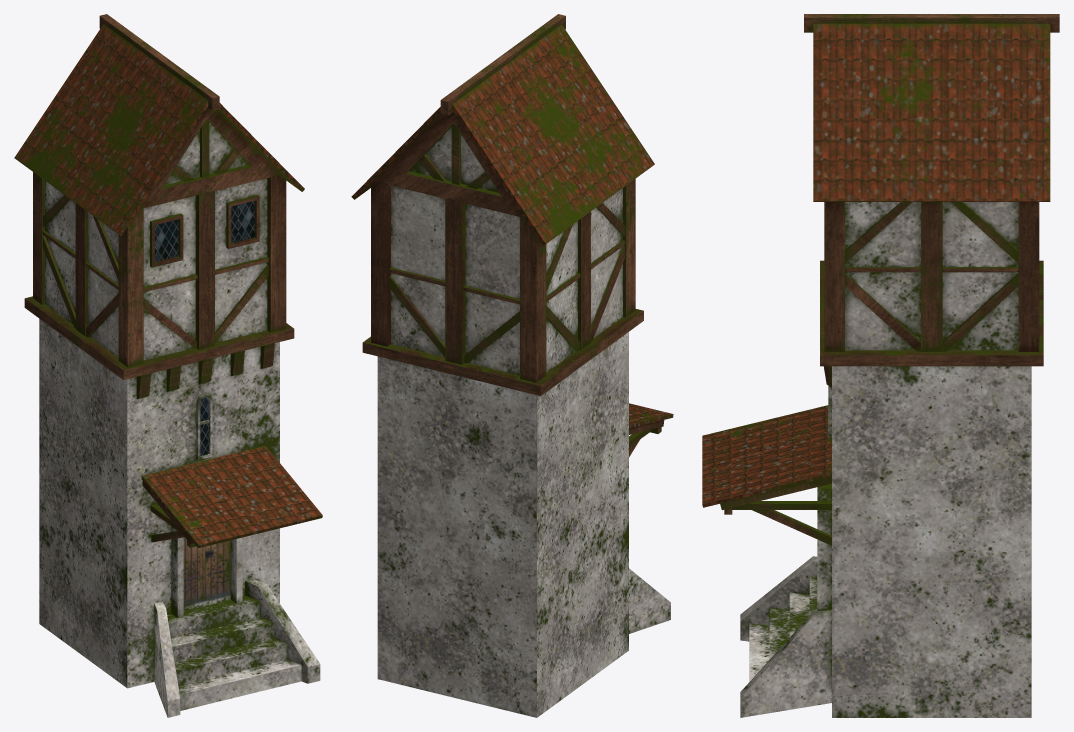
Rendered from House0.glb.
3 views of the same model, side by side, from view 1: azimuth 30°, elevation 25°; view 2: azimuth 150°, elevation 25°; view 3: azimuth 270°, elevation 25° (orthographic). The views are drawn at different scales.
Parts seen in each view (by area): view 1: House1_House1_M_0; view 2: House1_House1_M_0; view 3: House1_House1_M_0.
Part boxes in pixels (x1=…): House1_House1_M_0: x1=14, y1=14, x2=322, y2=717; House1_House1_M_0: x1=351, y1=14, x2=673, y2=717; House1_House1_M_0: x1=702, y1=14, x2=1059, y2=717.
Size of the model in its own units: 3.05 by 9.1 by 4.47.
1 material, 1 textured.
